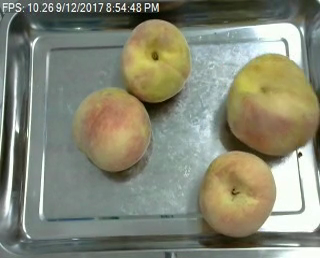Peach: (224, 52, 319, 155), (198, 149, 277, 237), (72, 88, 151, 172), (119, 19, 191, 101)
